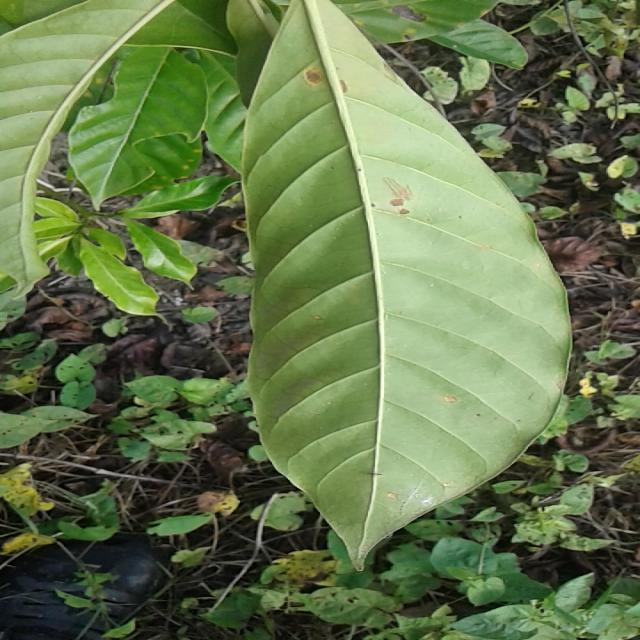Enfermedad-Roya: (232, 0, 573, 573)
